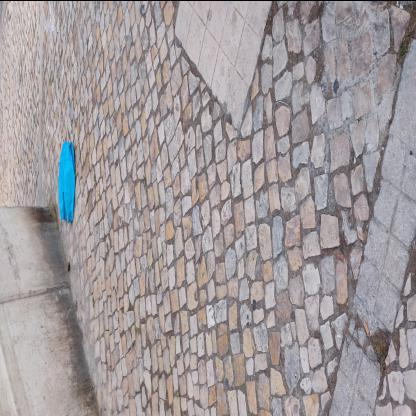plastik: (60, 141, 77, 223)
